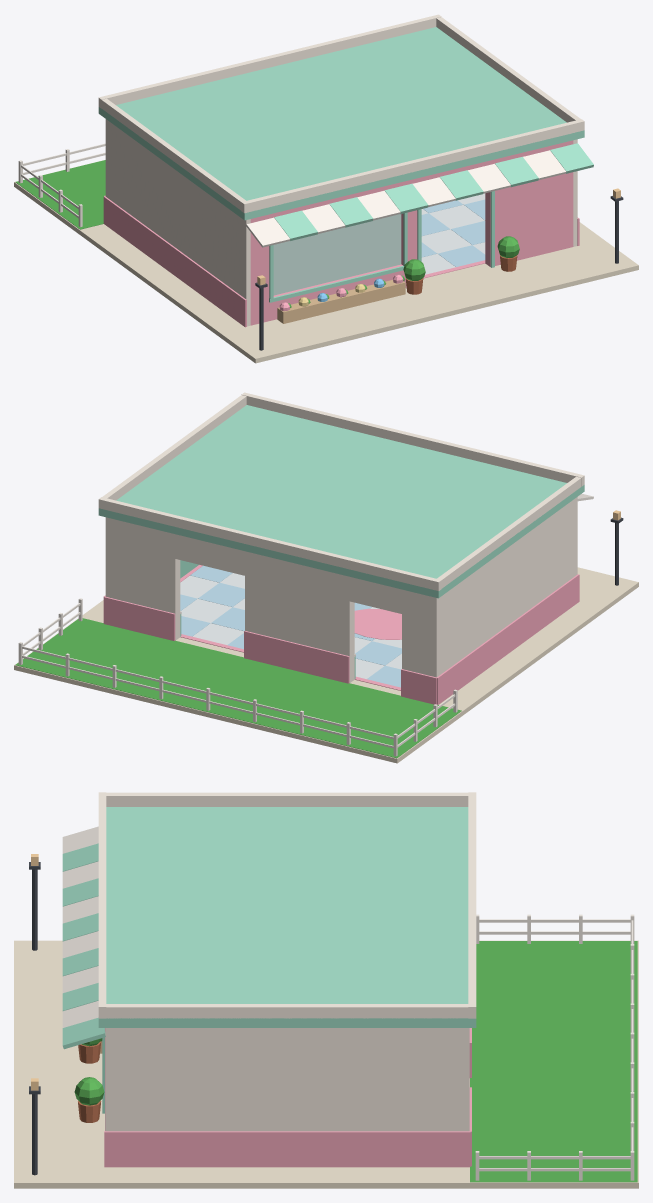
The model's file is CleanACat_Area_SpaPlot.fbx.
3 renders of one model, top to bottom at view 1: azimuth 30°, elevation 25°; view 2: azimuth 150°, elevation 25°; view 3: azimuth 270°, elevation 25°, orthographic. The views are drawn at different scales.
Visible parts, largest first — view 1: CleanACat_Area_SpaPlot_Roof, CleanACat_Area_SpaPlot, CleanACat_Area_SpaPlot_Wall, CleanACat_Area_SpaPlot_Canopy, CleanACat_Area_SpaPlot_Glass, CleanACat_Area_SpaPlot_Decor, CleanACat_Area_SpaPlot_Bands, CleanACat_Area_SpaPlot_Tiles, CleanACat_Area_SpaPlot_Trim, CleanACat_Area_SpaPlot_Flowers; view 2: CleanACat_Area_SpaPlot_Roof, CleanACat_Area_SpaPlot, CleanACat_Area_SpaPlot_Wall, CleanACat_Area_SpaPlot_Bands, CleanACat_Area_SpaPlot_Decor, CleanACat_Area_SpaPlot_Tiles; view 3: CleanACat_Area_SpaPlot_Roof, CleanACat_Area_SpaPlot, CleanACat_Area_SpaPlot_Wall, CleanACat_Area_SpaPlot_Bands, CleanACat_Area_SpaPlot_Canopy, CleanACat_Area_SpaPlot_Decor.
Boxes of the visible parts, box(x1,y1,x2,y2) form: CleanACat_Area_SpaPlot_Roof: box(98, 14, 584, 220); CleanACat_Area_SpaPlot: box(14, 160, 638, 363); CleanACat_Area_SpaPlot_Wall: box(105, 119, 577, 326); CleanACat_Area_SpaPlot_Canopy: box(246, 143, 593, 247); CleanACat_Area_SpaPlot_Glass: box(273, 214, 401, 295); CleanACat_Area_SpaPlot_Decor: box(18, 143, 623, 350); CleanACat_Area_SpaPlot_Bands: box(103, 195, 579, 327); CleanACat_Area_SpaPlot_Tiles: box(421, 199, 485, 278); CleanACat_Area_SpaPlot_Trim: box(269, 191, 494, 302); CleanACat_Area_SpaPlot_Flowers: box(279, 274, 404, 311); CleanACat_Area_SpaPlot_Roof: box(98, 392, 584, 598); CleanACat_Area_SpaPlot: box(14, 567, 638, 763); CleanACat_Area_SpaPlot_Wall: box(105, 497, 577, 682); CleanACat_Area_SpaPlot_Bands: box(103, 560, 579, 704); CleanACat_Area_SpaPlot_Decor: box(18, 517, 623, 756); CleanACat_Area_SpaPlot_Tiles: box(180, 565, 401, 690); CleanACat_Area_SpaPlot_Roof: box(98, 792, 476, 1027); CleanACat_Area_SpaPlot: box(14, 940, 638, 1188); CleanACat_Area_SpaPlot_Wall: box(105, 1028, 469, 1131); CleanACat_Area_SpaPlot_Bands: box(104, 1028, 471, 1167); CleanACat_Area_SpaPlot_Canopy: box(62, 826, 105, 1049); CleanACat_Area_SpaPlot_Decor: box(29, 862, 634, 1180).
Size of the model in its own units: 44 by 14.25 by 48.
1 material, 1 textured.
